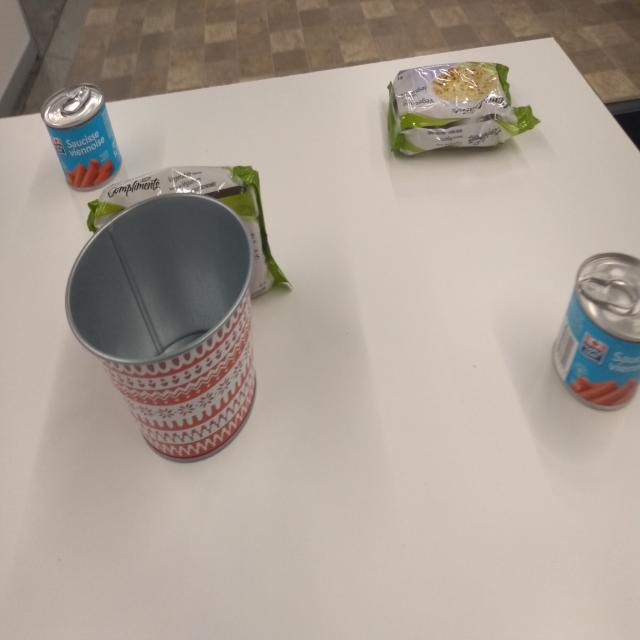noodles: (383, 57, 543, 164)
sausages: (40, 81, 127, 197)
